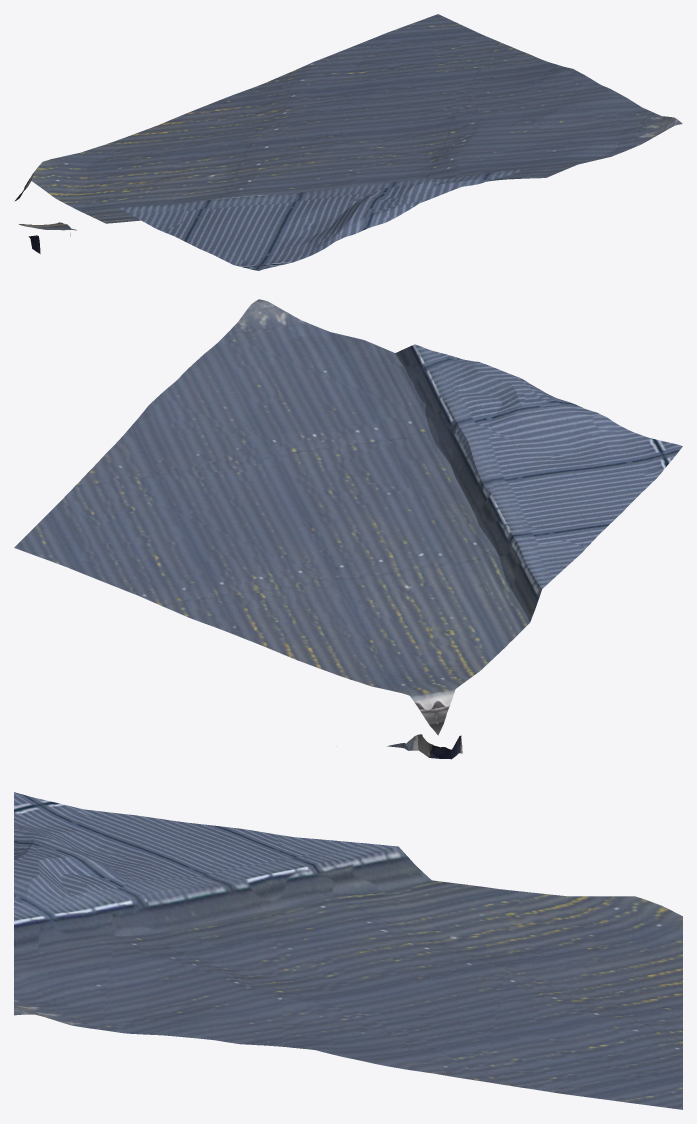
3 views of the same model, one above another, from view 1: azimuth 30°, elevation 25°; view 2: azimuth 150°, elevation 25°; view 3: azimuth 270°, elevation 25° (orthographic). The views are drawn at different scales.
Bounding box in the file's own units: 4.18 × 1.79 × 4.18.
3 materials, 3 textured.
